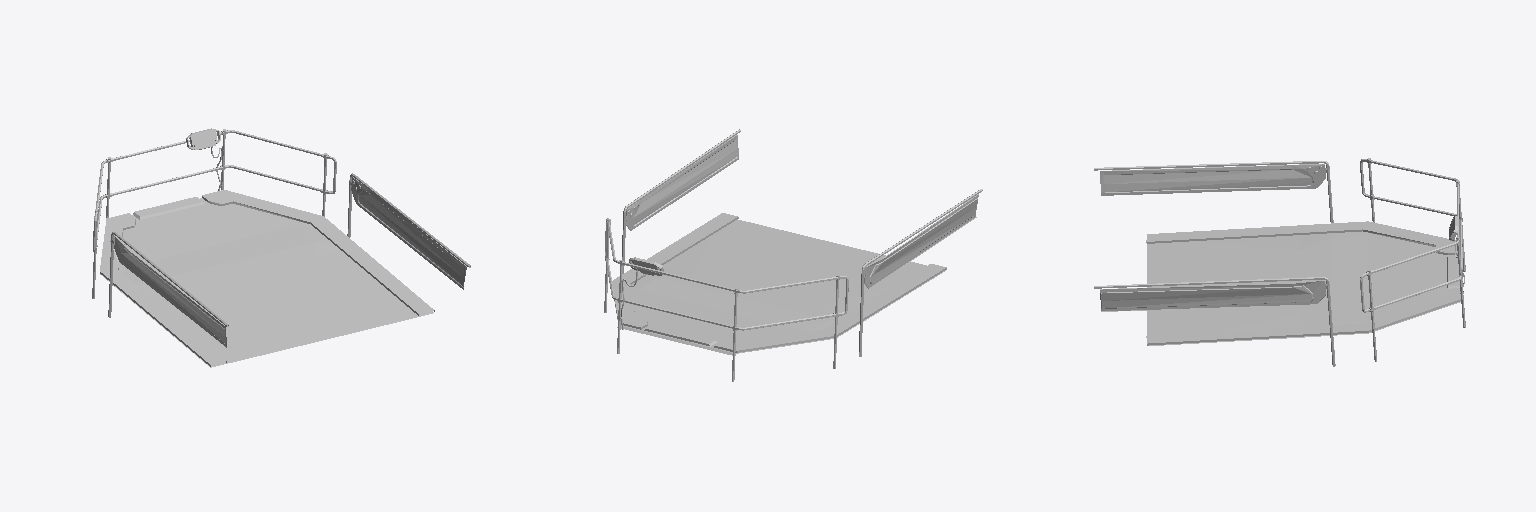
File: ship_0.obj
3 renders of one model, left to right at view 1: azimuth 30°, elevation 25°; view 2: azimuth 150°, elevation 25°; view 3: azimuth 270°, elevation 25°, orthographic.
Parts seen in each view (by area): view 1: Warship_ConterStands; view 2: Warship_ConterStands; view 3: Warship_ConterStands.
Boxes of the visible parts, <box> form: Warship_ConterStands: <box>92,128,470,367</box>; Warship_ConterStands: <box>604,129,982,381</box>; Warship_ConterStands: <box>1094,158,1465,366</box>.
Size of the model in its own units: 4.47 by 1.82 by 5.89.